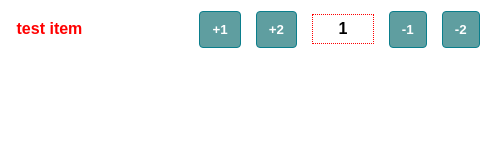
Test: ItemCounter › Should increase count when button is pressed
The width and height of the screenshot is (497, 160).
Note: Disparamos el evento
Click the button "+1" at (220, 29), box [199, 10, 241, 48]
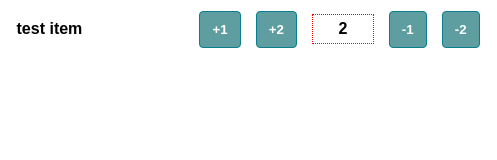
Result: the text "2" is shown at [312, 14, 374, 44]
